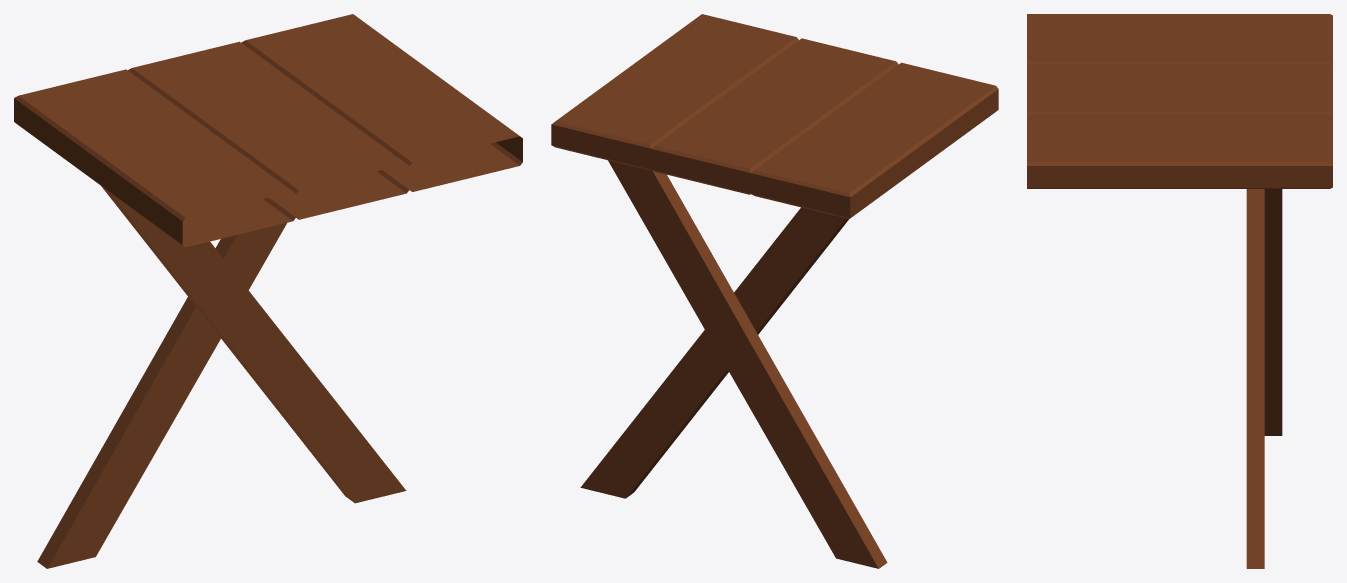
The model's file is Table_end_new.fbx.
3 views of the same model, side by side, from view 1: azimuth 30°, elevation 25°; view 2: azimuth 150°, elevation 25°; view 3: azimuth 270°, elevation 25° (orthographic). The views are drawn at different scales.
Visible parts, largest first — view 1: Table_plank_end_object; view 2: Table_plank_end_object; view 3: Table_plank_end_object.
Part boxes in pixels (left/top/right/bottom): Table_plank_end_object: left=14, top=14, right=522, bottom=568; Table_plank_end_object: left=551, top=14, right=998, bottom=568; Table_plank_end_object: left=1027, top=14, right=1332, bottom=568.
Bounding box in the file's own units: 1233 × 1500 × 1030.
